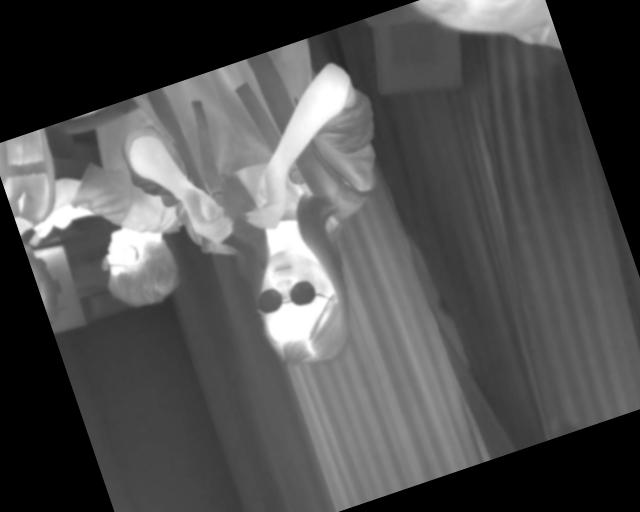face: (240, 236, 360, 378)
